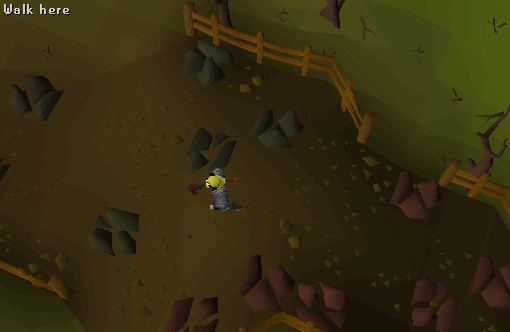coal: (246, 103, 309, 157), (180, 124, 243, 178), (83, 203, 146, 257)
iron: (379, 165, 453, 232), (395, 265, 469, 332), (289, 265, 363, 332), (227, 252, 301, 319)
